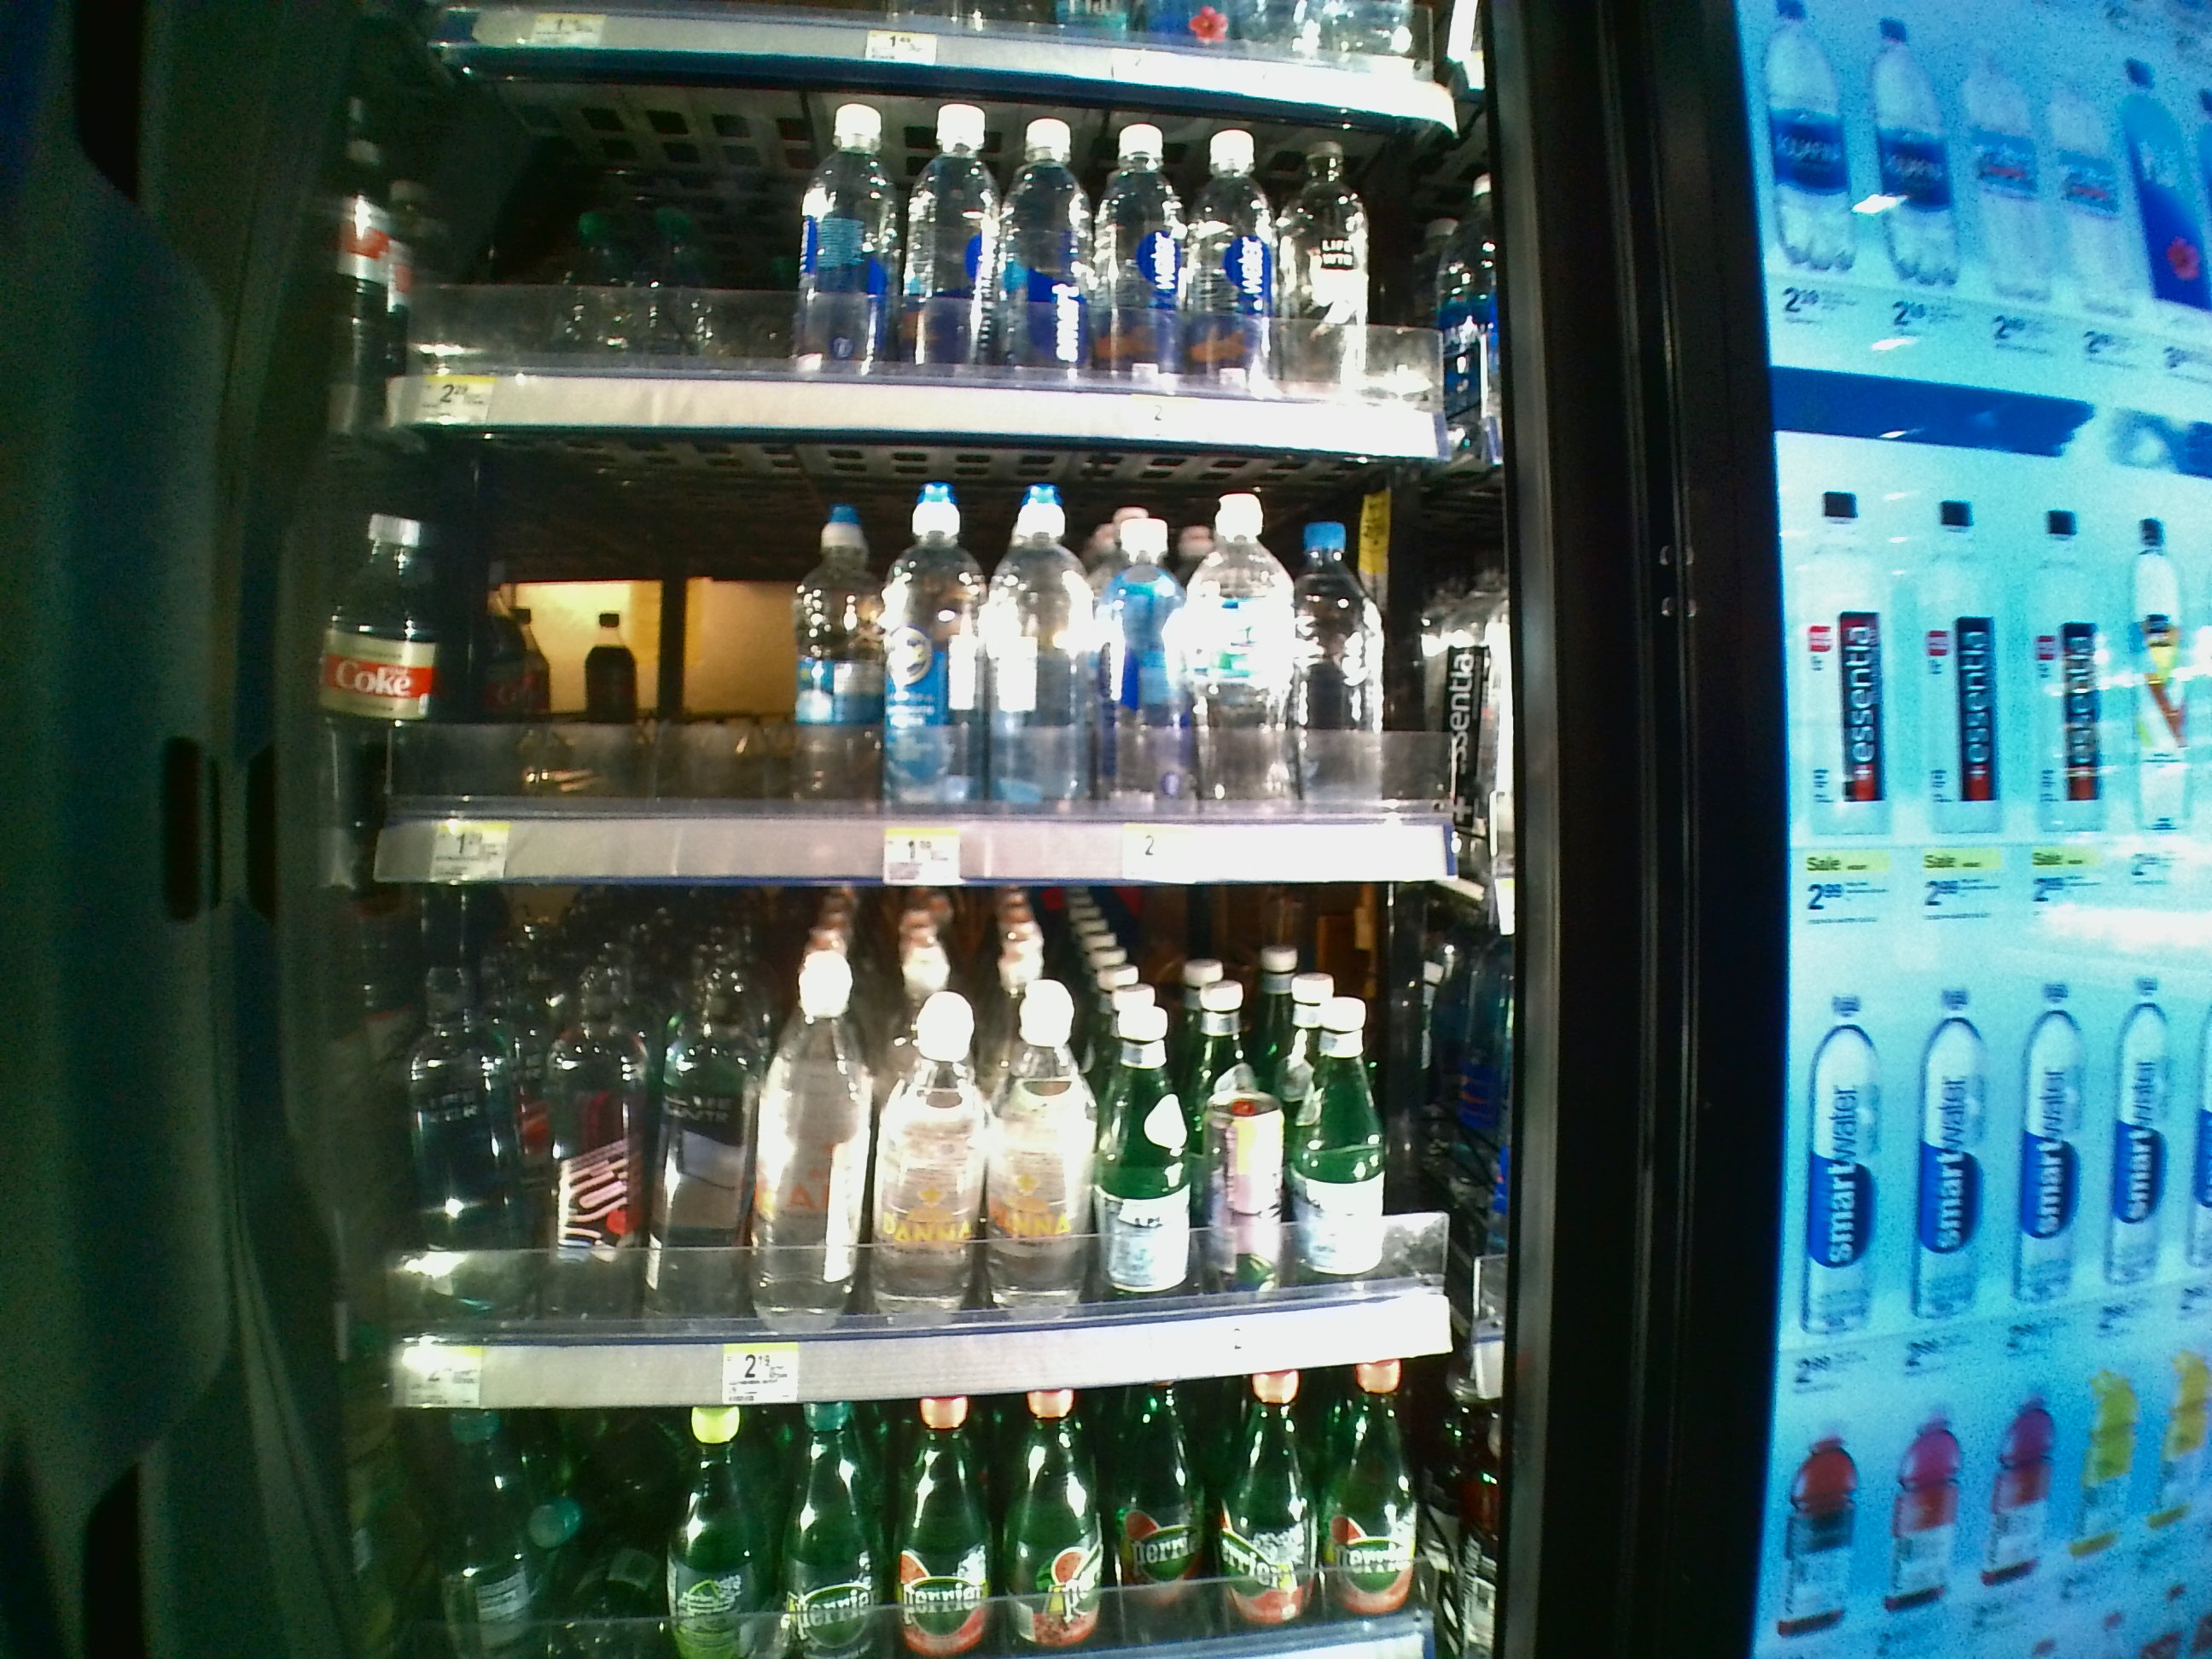shelf: (319, 887, 1531, 1412), (315, 425, 1510, 892)
